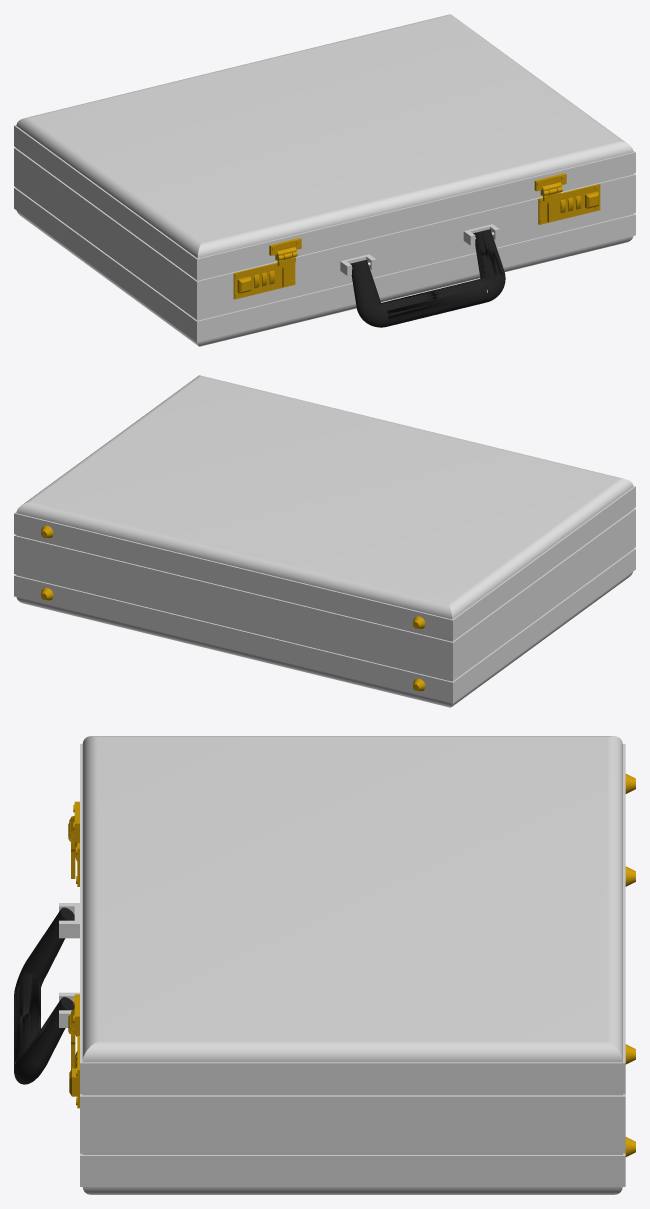
The model's file is BriefcaseClosed.fbx.
3 renders of one model, top to bottom at view 1: azimuth 30°, elevation 25°; view 2: azimuth 150°, elevation 25°; view 3: azimuth 270°, elevation 25°, orthographic. The views are drawn at different scales.
Visible parts, largest first — view 1: Briefcase1, LockMech2, LockMech1, Latch1, Latch2; view 2: Briefcase1; view 3: Briefcase1.
Part boxes in pixels (left/top/right/bottom): Briefcase1: left=14, top=14, right=635, bottom=346; LockMech2: left=233, top=262, right=295, bottom=299; LockMech1: left=538, top=183, right=600, bottom=224; Latch1: left=269, top=238, right=301, bottom=286; Latch2: left=534, top=173, right=566, bottom=222; Briefcase1: left=14, top=375, right=635, bottom=707; Briefcase1: left=14, top=736, right=625, bottom=1194.
Bounding box in the file's own units: 18 × 4.06 × 14.82.
